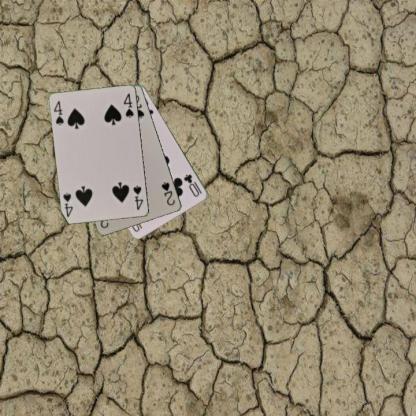10c: (182, 172, 204, 198)
2s: (159, 179, 176, 207)
4s: (130, 183, 144, 212), (52, 98, 66, 127)
